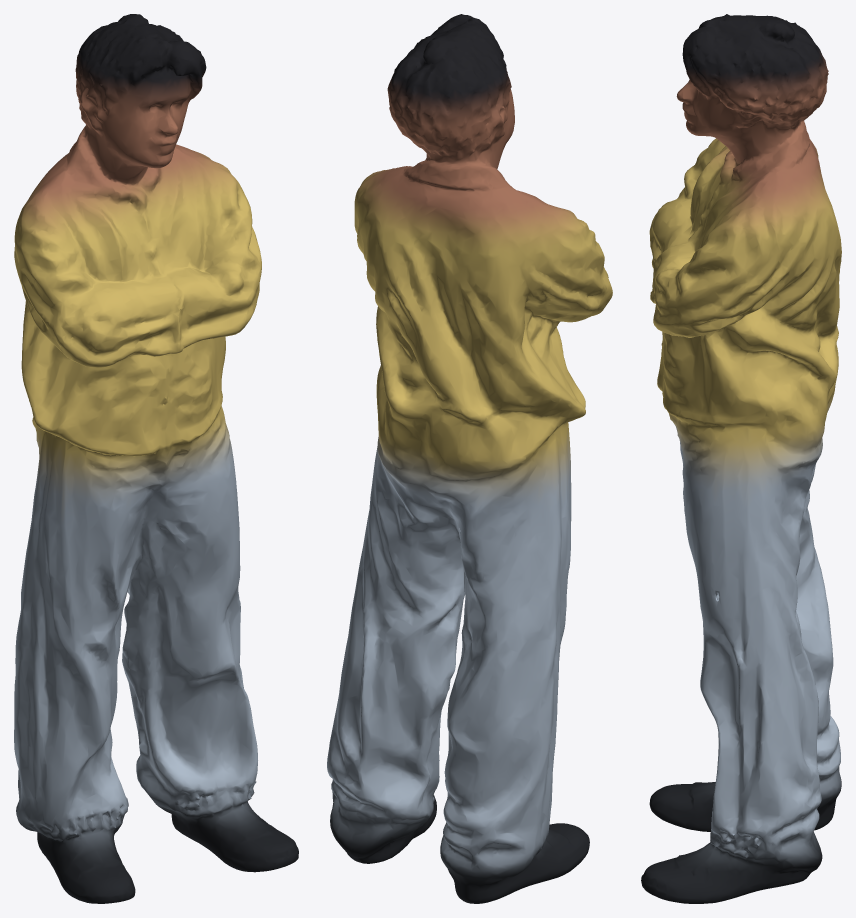
Rendered from akash-avatar-desktop.glb.
3 views of the same model, side by side, from view 1: azimuth 30°, elevation 25°; view 2: azimuth 150°, elevation 25°; view 3: azimuth 270°, elevation 25° (orthographic).
Visible parts, largest first — view 1: geometry_0; view 2: geometry_0; view 3: geometry_0.
Boxes of the visible parts, bbox=[...] form: geometry_0: bbox=[14, 14, 298, 903]; geometry_0: bbox=[327, 14, 612, 903]; geometry_0: bbox=[641, 14, 841, 903].
Size of the model in its own units: 0.3073 by 0.9994 by 0.218.
